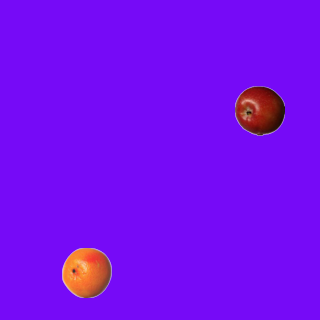Apple Braeburn: (234, 85, 284, 135)
Grapefruit Pink: (61, 247, 111, 297)
